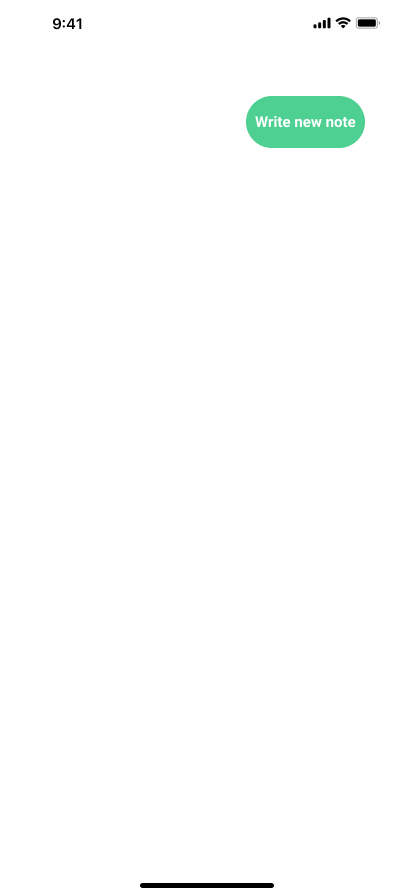Buttons: (246, 96, 365, 148)
Home Indicator: (0, 862, 414, 896)
Status Bar: (0, 0, 414, 44)
